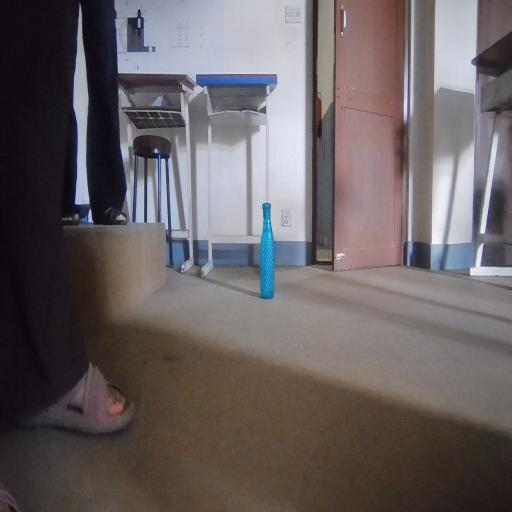Bottle: (252, 165, 298, 354)
